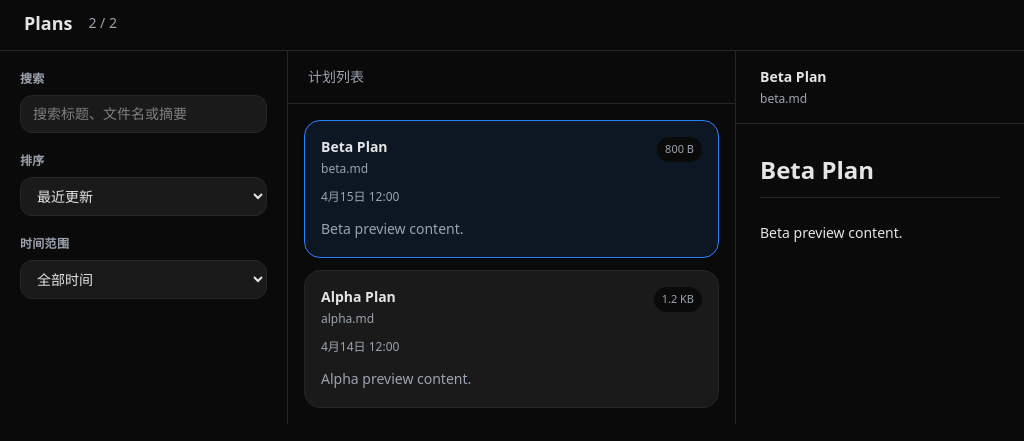
Test: PlansView › shows list and preview empty states when no plan matches filters
Type "missing" into the search field with placeholder "搜索标题、文件名或摘要".
click(144, 114); type("missing")  # box [20, 95, 267, 133]
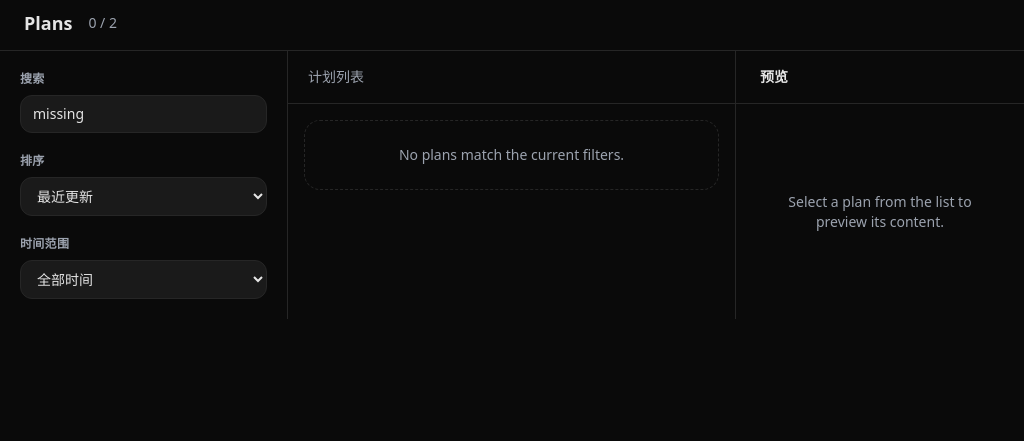
Now the text "No plans match the current filters." is shown, box [304, 120, 719, 190]
Now the text "Select a plan from the list to preview its content." is shown, box [788, 192, 972, 230]
Now the text "Alpha preview content." is gone
